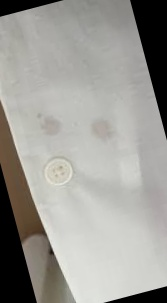wine: (28, 106, 62, 136), (86, 119, 117, 149)
